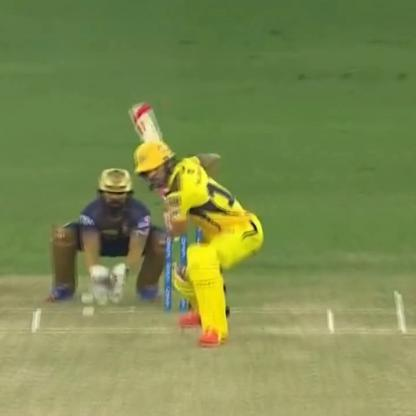ball: (72, 308, 99, 320), (74, 290, 97, 304)
bat: (130, 95, 185, 181)
pitch: (1, 298, 414, 415)
